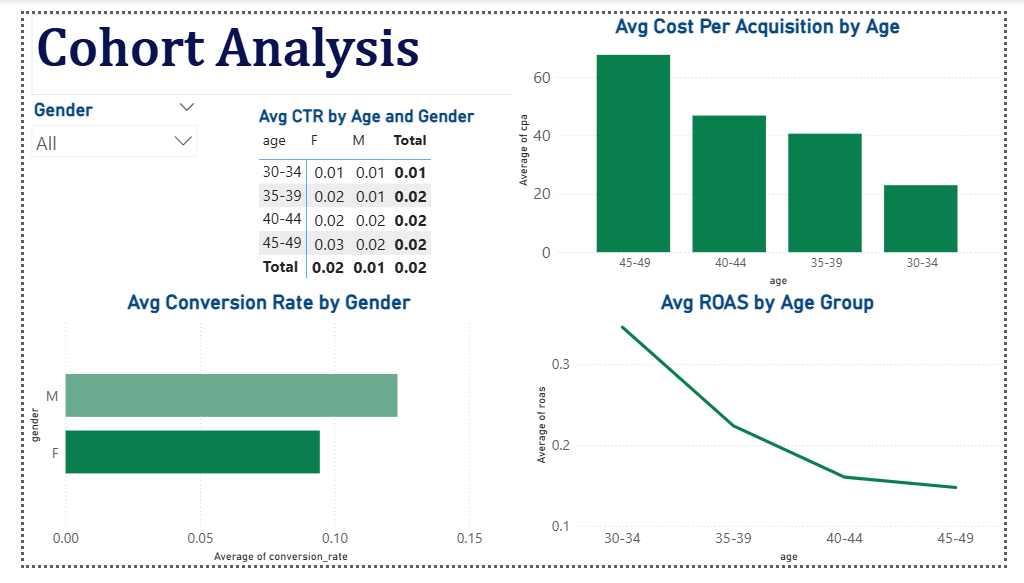

The dashboard page shown, as its layout file describes it:
{"tool":"powerbi","page":{"name":"Page 3","canvas":[1280,720],"ordinal":2},"visuals":[{"type":"textbox","box":[10,0,782,106],"z":0},{"type":"pivotTable","title":"Avg CTR by Age and Gender","fields":{"Rows":["cleaned_ad_data (1).age"],"Columns":["cleaned_ad_data (1).gender"],"Values":["Avg(cleaned_ad_data (1).ctr)"]},"box":[302,120,338,272],"z":1000},{"type":"clusteredColumnChart","title":"Avg Cost Per Acquisition by Age","fields":{"Category":["cleaned_ad_data (1).age"],"Y":["Avg(cleaned_ad_data (1).cpa)"]},"box":[640,0,640,360],"z":2000},{"type":"lineChart","title":"Avg ROAS by Age Group","fields":{"Category":["cleaned_ad_data (1).age"],"Y":["Avg(cleaned_ad_data (1).roas)"]},"box":[662,360,618,360],"z":3000},{"type":"clusteredBarChart","title":"Avg Conversion Rate by Gender","fields":{"Y":["Avg(cleaned_ad_data (1).conversion_rate)"],"Category":["cleaned_ad_data (1).gender"]},"box":[0,360,640,360],"z":4000},{"type":"slicer","fields":{"Values":["cleaned_ad_data (1).gender"]},"box":[0,106,236,110],"z":5000}]}

Visuals, with their boxes in screenshot pixels (x1, y1, x2, y2), scaled from the page's 1280x720 canvas onto the 1024x583 screenshot:
textbox: bbox=(8, 0, 634, 86)
"Avg CTR by Age and Gender" pivotTable: bbox=(242, 97, 512, 317)
"Avg Cost Per Acquisition by Age" clusteredColumnChart: bbox=(512, 0, 1023, 292)
"Avg ROAS by Age Group" lineChart: bbox=(530, 292, 1023, 582)
"Avg Conversion Rate by Gender" clusteredBarChart: bbox=(0, 292, 512, 582)
slicer - cleaned_ad_data (1).gender: bbox=(0, 86, 189, 175)
